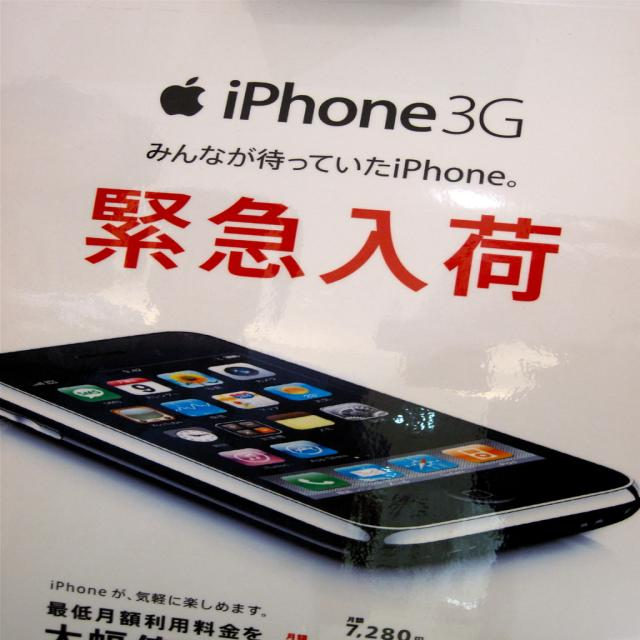Mobile-phone: (0, 325, 640, 560)
